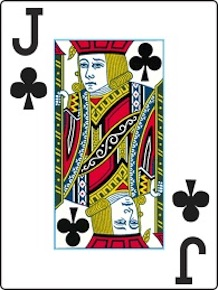JackOfClubs: (2, 2, 218, 289)
